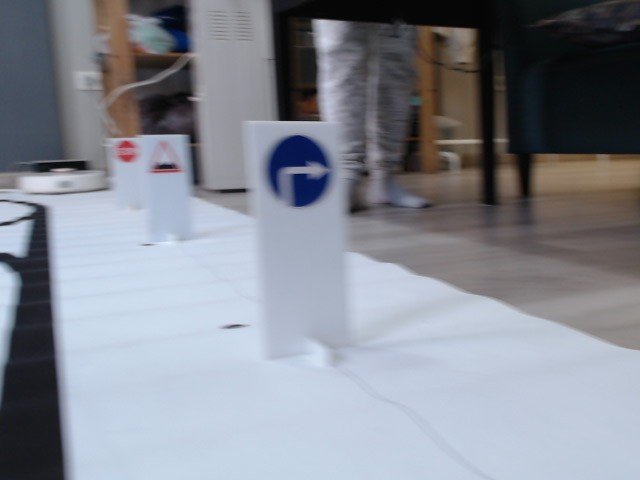Nerov: (145, 139, 184, 177)
Right: (267, 134, 335, 208)
